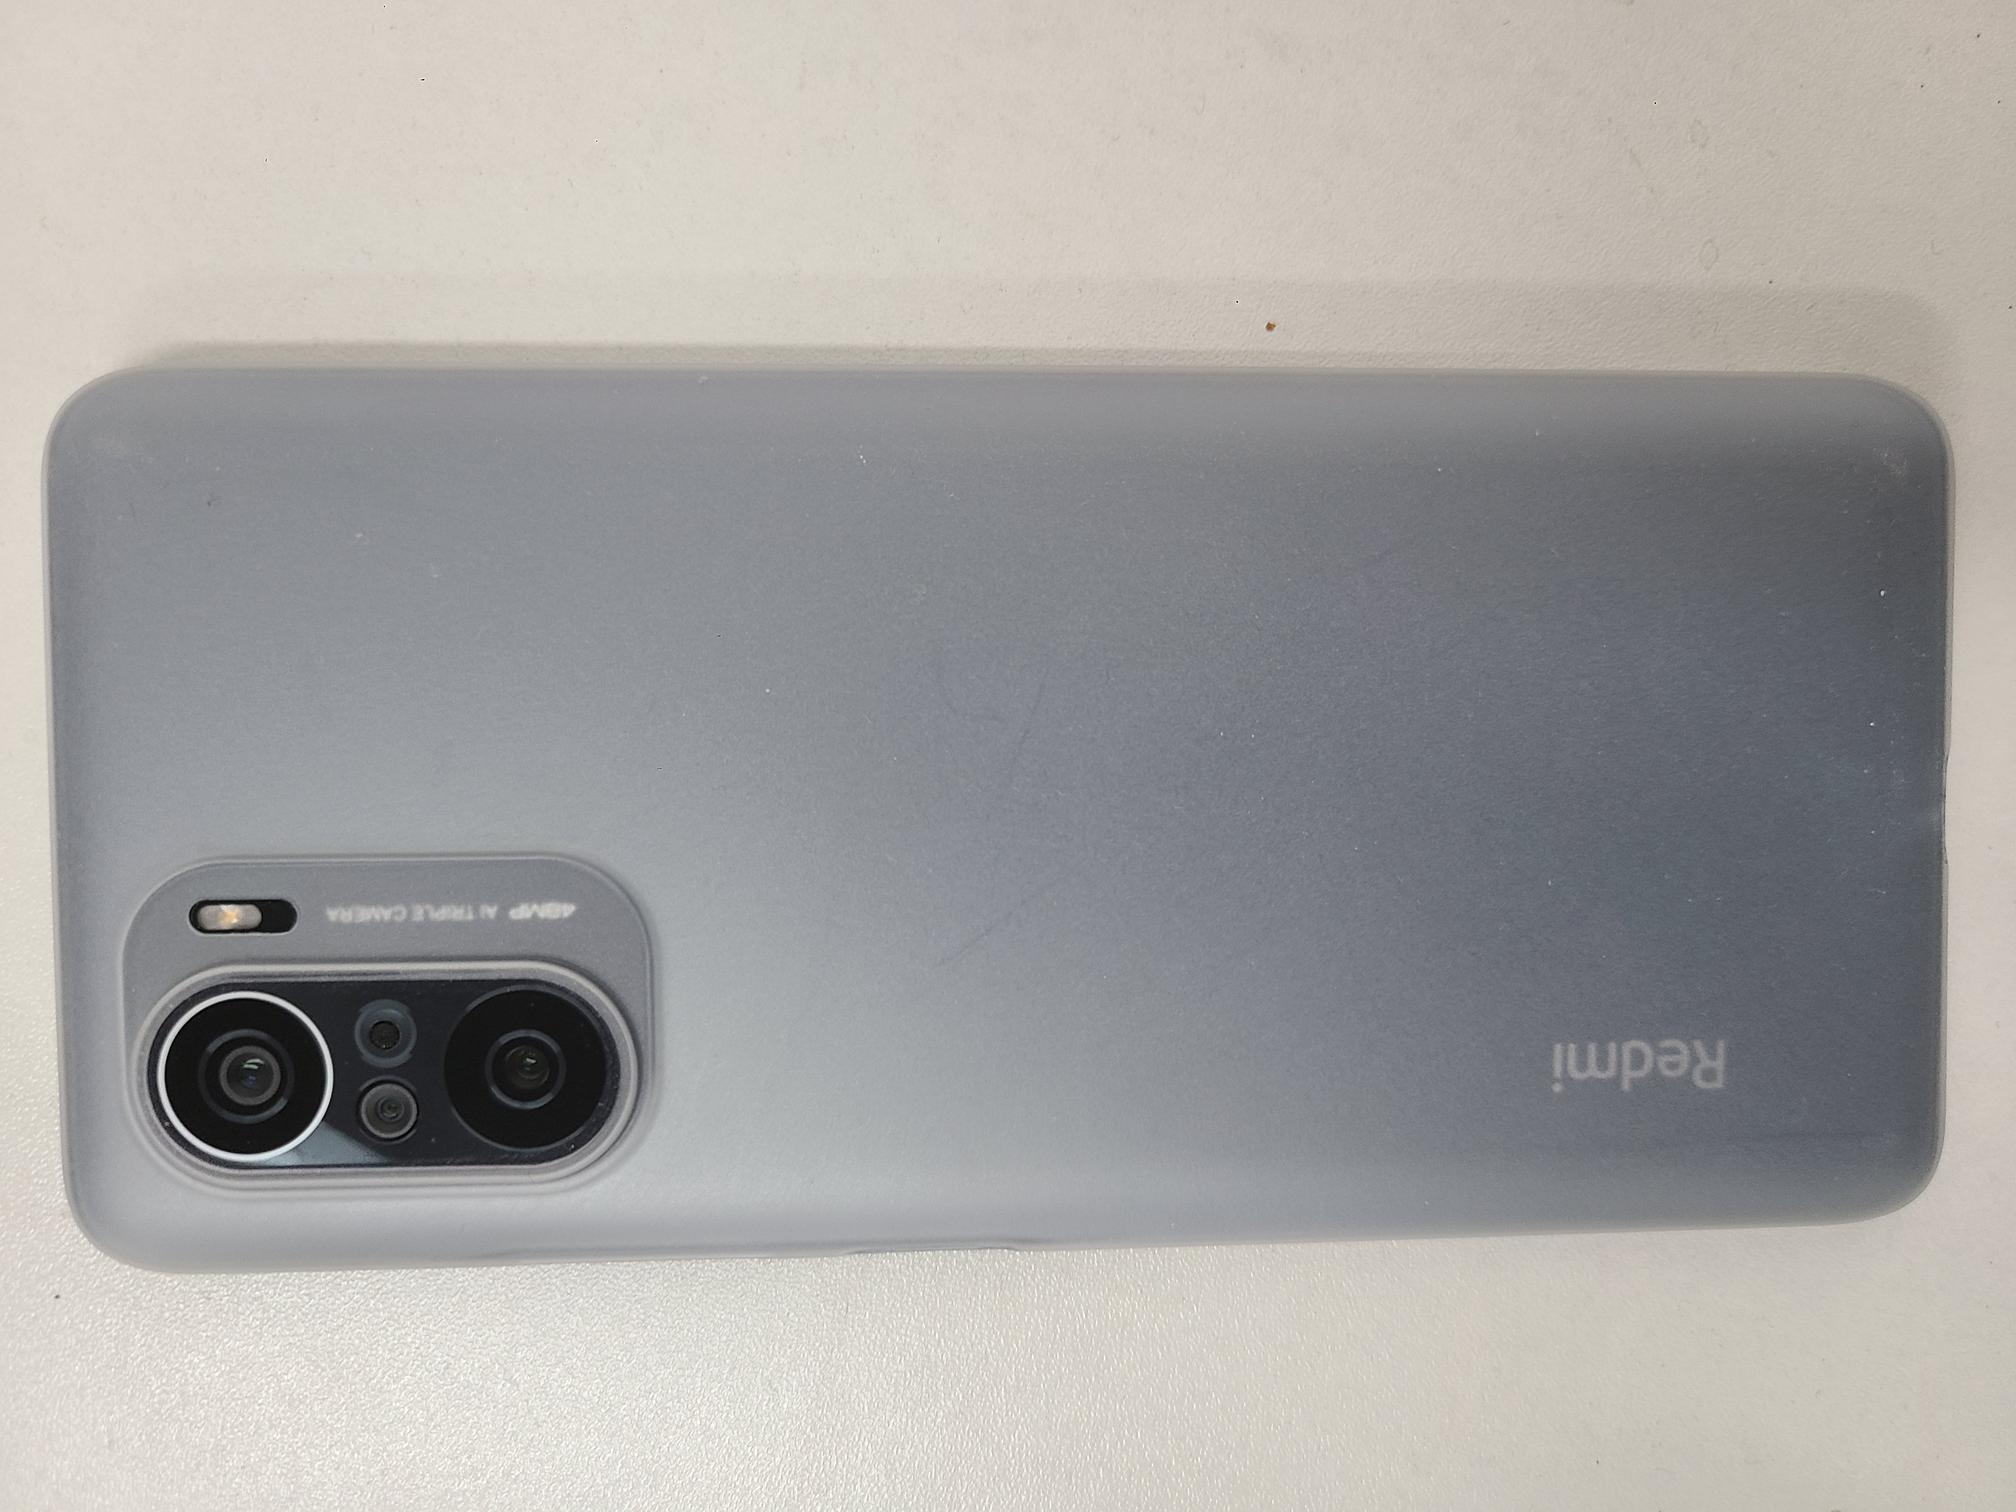phone: (56, 338, 1914, 1301)
